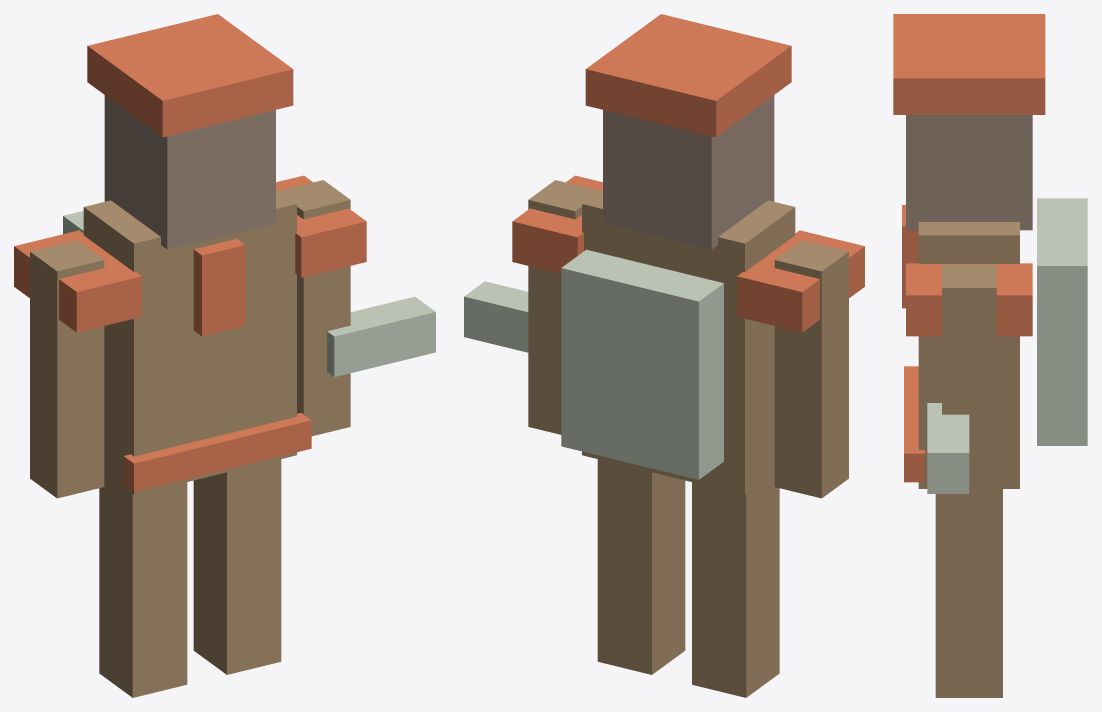
Rendered from 20_kiva_emberkin_sentinel_under_saltscar.glb.
3 views of the same model, side by side, from view 1: azimuth 30°, elevation 25°; view 2: azimuth 150°, elevation 25°; view 3: azimuth 270°, elevation 25° (orthographic).
Parts seen in each view (by area): view 1: Kiva Emberkin, Sentinel under Saltscar; view 2: Kiva Emberkin, Sentinel under Saltscar; view 3: Kiva Emberkin, Sentinel under Saltscar.
Boxes of the visible parts, bbox=[...] form: Kiva Emberkin, Sentinel under Saltscar: bbox=[14, 14, 435, 697]; Kiva Emberkin, Sentinel under Saltscar: bbox=[464, 14, 864, 697]; Kiva Emberkin, Sentinel under Saltscar: bbox=[893, 14, 1087, 697].
Size of the model in its own units: 1.08 by 1.69 by 0.4827.
